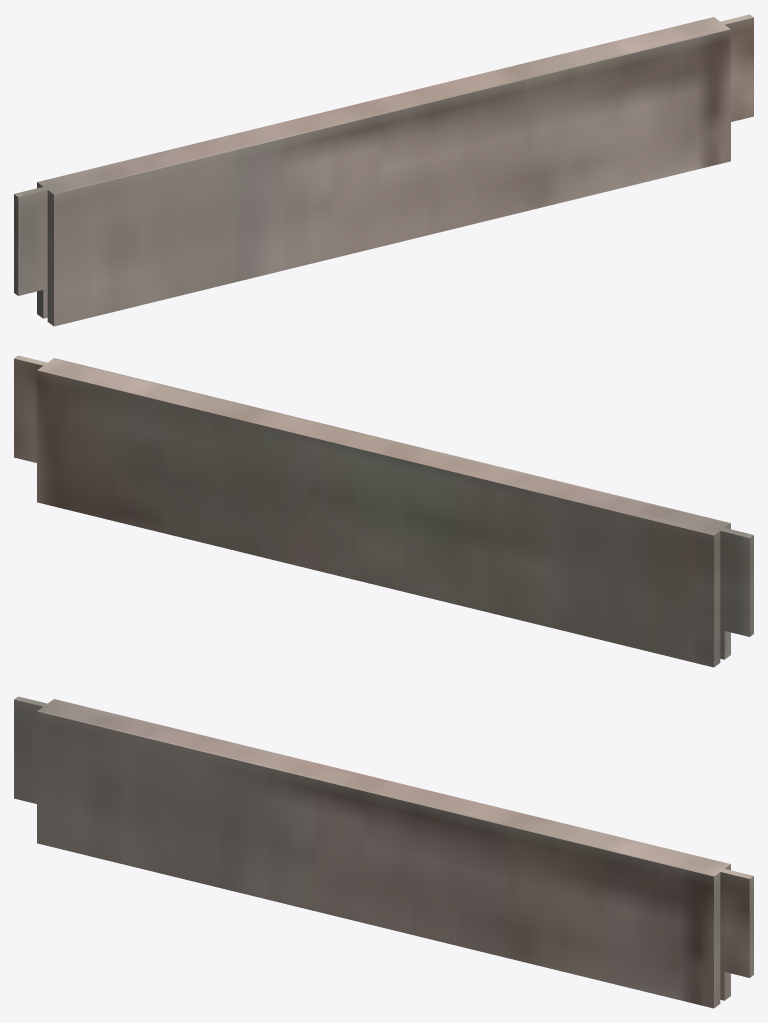
File: original-58.obj
3 views of the same model, one above another, from view 1: azimuth 30°, elevation 25°; view 2: azimuth 150°, elevation 25°; view 3: azimuth 330°, elevation 25° (orthographic).
Visible parts, largest first — view 1: Door_Rail_4/Door_Rail_/mesh70/mesh70-geometry#mesh70-geometry; view 2: Door_Rail_4/Door_Rail_/mesh70/mesh70-geometry#mesh70-geometry; view 3: Door_Rail_4/Door_Rail_/mesh70/mesh70-geometry#mesh70-geometry.
Boxes of the visible parts, x1,y1,x2,y2 form: Door_Rail_4/Door_Rail_/mesh70/mesh70-geometry#mesh70-geometry: (14,14,753,326); Door_Rail_4/Door_Rail_/mesh70/mesh70-geometry#mesh70-geometry: (14,355,753,667); Door_Rail_4/Door_Rail_/mesh70/mesh70-geometry#mesh70-geometry: (14,696,753,1008).
Bounding box in the file's own units: 0.4547 × 0.078 × 0.0182.
